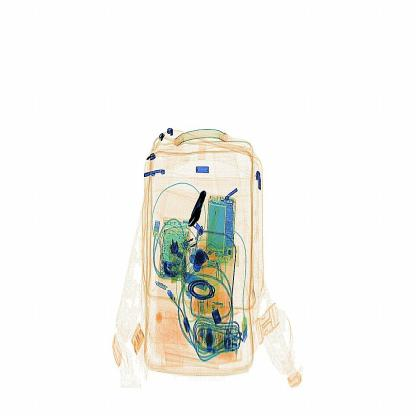knife: (192, 186, 210, 225)
